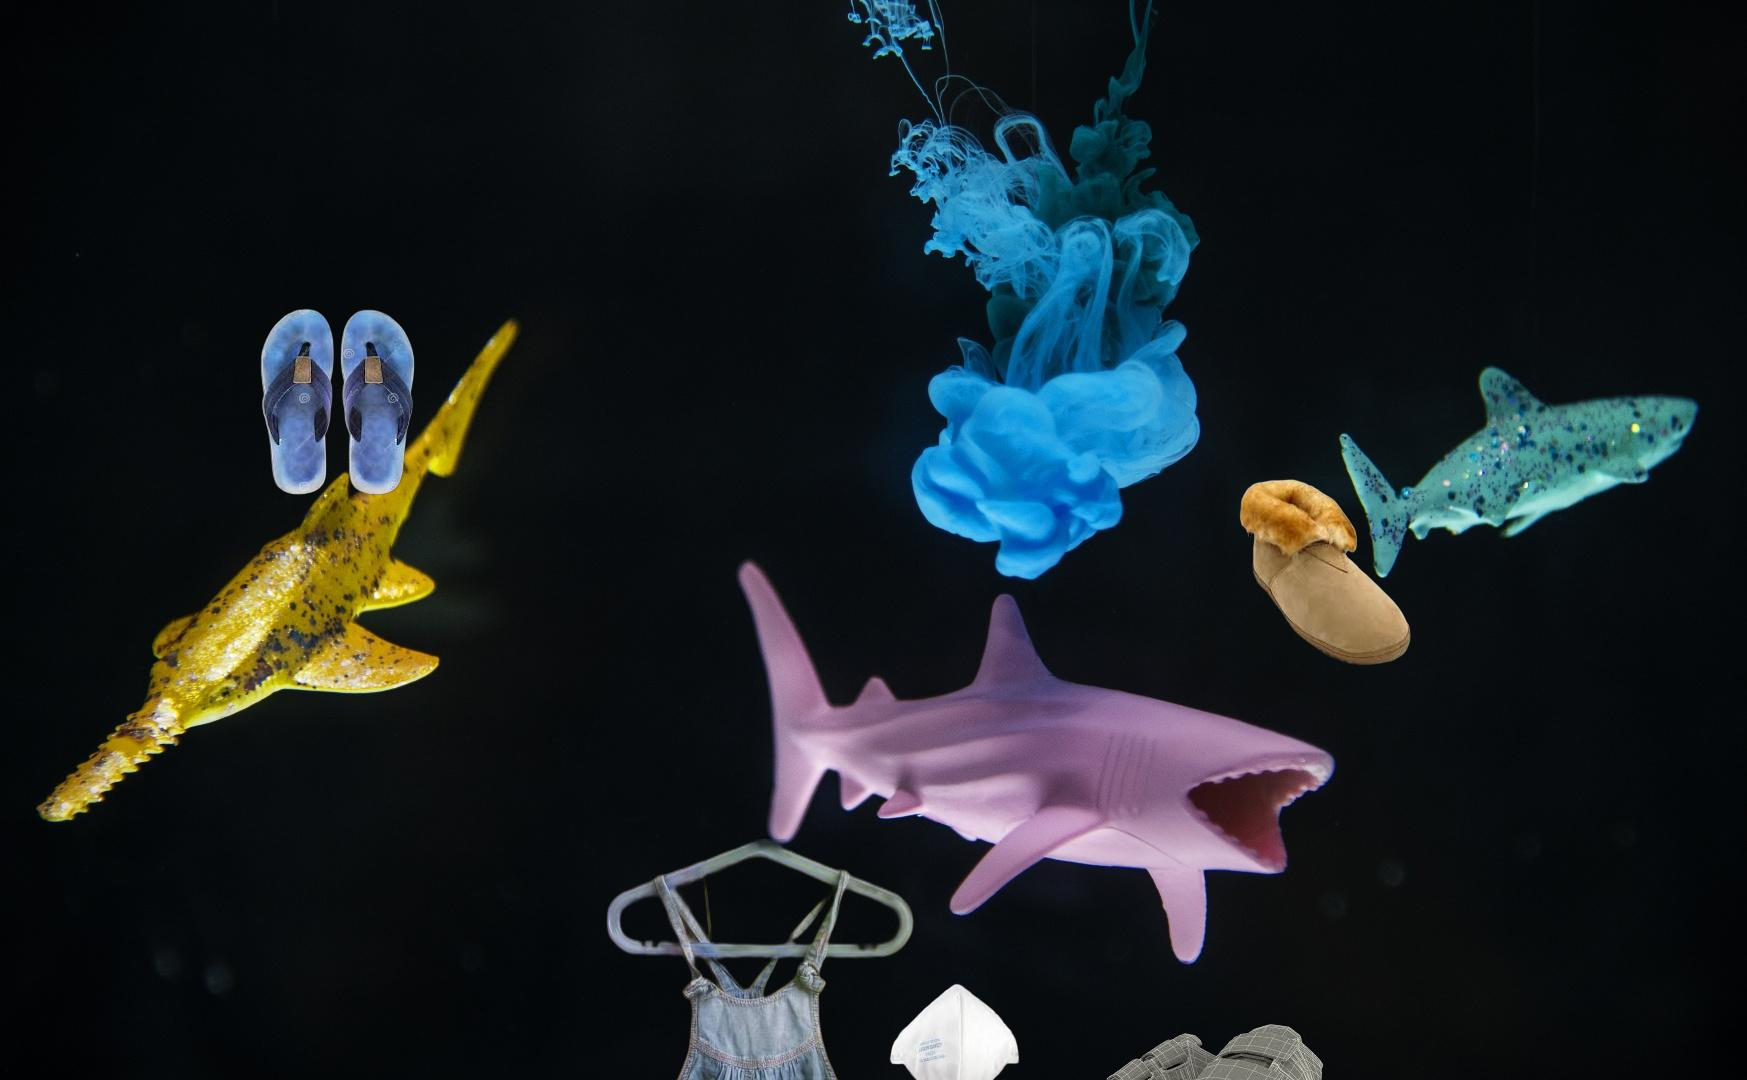clothes: (558, 839, 917, 1080)
shoes: (1237, 476, 1413, 668), (258, 307, 417, 497), (1101, 1021, 1325, 1080)
trash: (887, 981, 1022, 1080)
